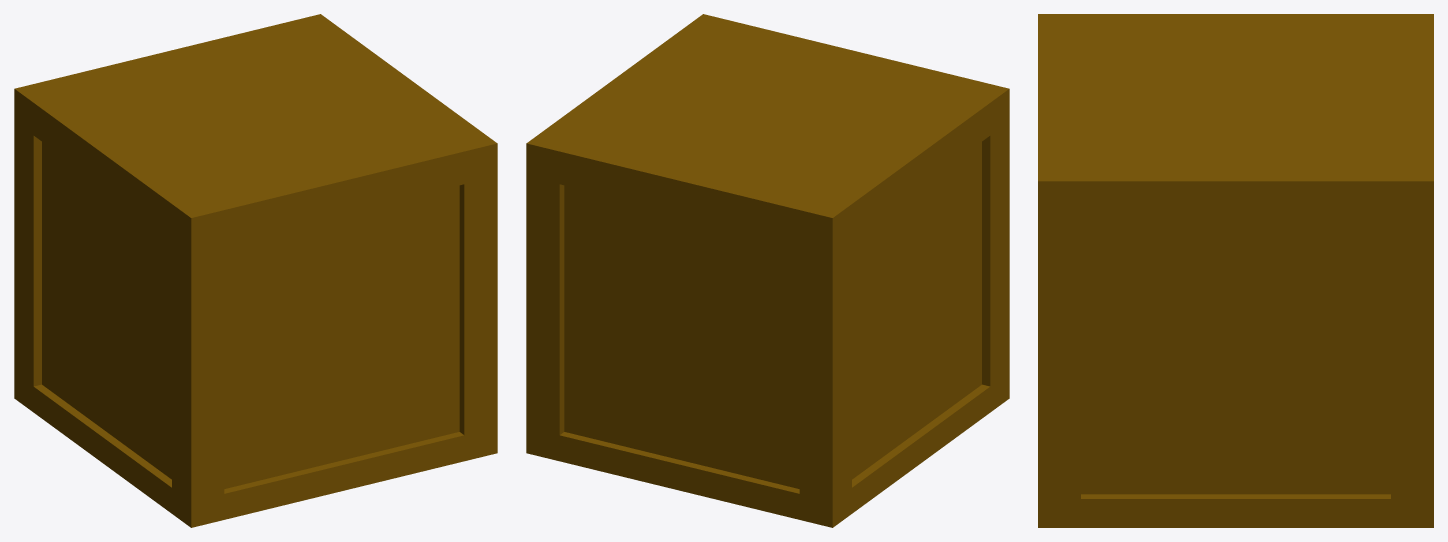
Rendered from Caja Mediana.fbx.
3 renders of one model, left to right at view 1: azimuth 30°, elevation 25°; view 2: azimuth 150°, elevation 25°; view 3: azimuth 270°, elevation 25°, orthographic. The views are drawn at different scales.
Visible parts, largest first — view 1: Caja_Mediana; view 2: Caja_Mediana; view 3: Caja_Mediana.
Boxes of the visible parts, x1=… form: Caja_Mediana: x1=14, y1=14, x2=497, y2=527; Caja_Mediana: x1=526, y1=14, x2=1009, y2=527; Caja_Mediana: x1=1038, y1=14, x2=1433, y2=527.
Size of the model in its own units: 8.76 by 8.46 by 8.76.
